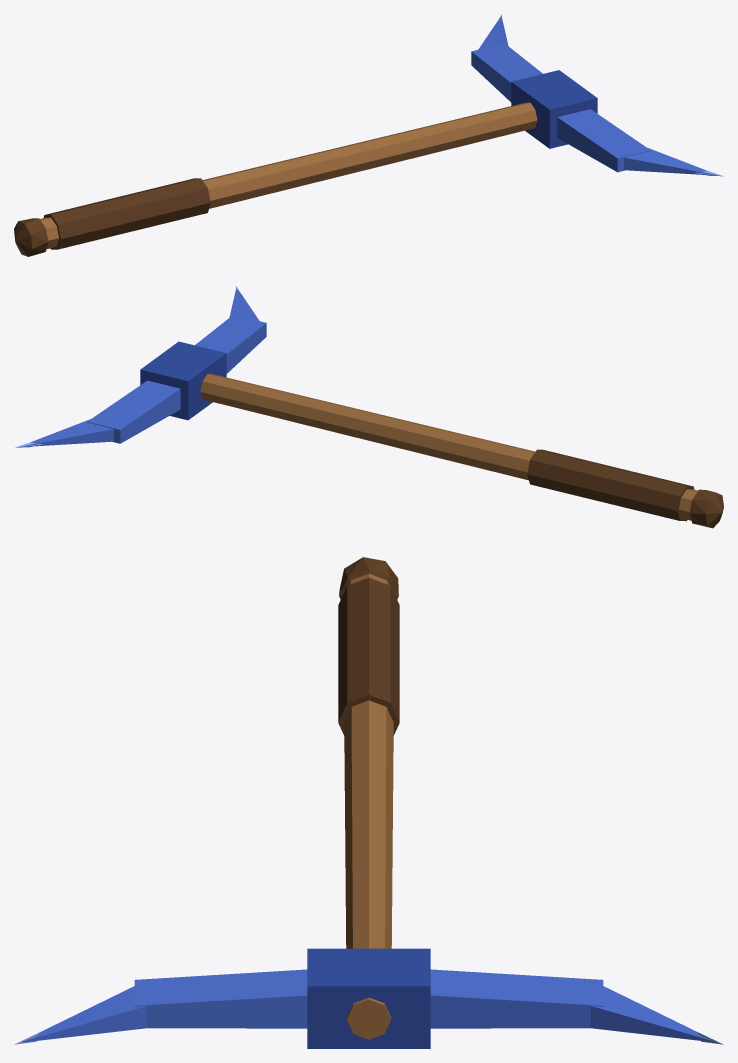
The model's file is drop_mithril_pickaxe.glb.
3 renders of one model, top to bottom at view 1: azimuth 30°, elevation 25°; view 2: azimuth 150°, elevation 25°; view 3: azimuth 270°, elevation 25°, orthographic. The views are drawn at different scales.
Parts seen in each view (by area): view 1: drop_mithril_pickaxe; view 2: drop_mithril_pickaxe; view 3: drop_mithril_pickaxe.
Part boxes in pixels (x1,y1,x2,y2): drop_mithril_pickaxe: (14, 15, 723, 256); drop_mithril_pickaxe: (15, 286, 723, 528); drop_mithril_pickaxe: (14, 557, 723, 1048).
Bounding box in the file's own units: 0.7176 × 0.0448 × 0.4608.
